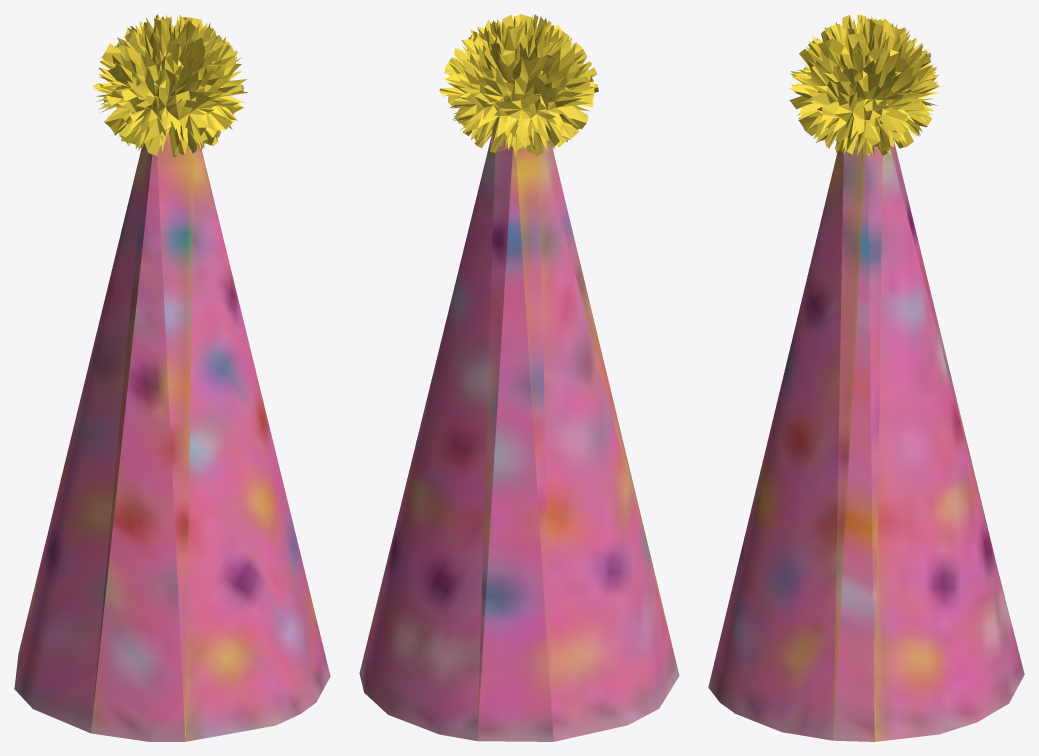
File: party_hat.glb
3 views of the same model, side by side, from view 1: azimuth 30°, elevation 25°; view 2: azimuth 150°, elevation 25°; view 3: azimuth 270°, elevation 25° (orthographic).
Bounding box in the file's own units: 0.8428 × 1.9 × 0.8355.
1 material, 1 textured.
